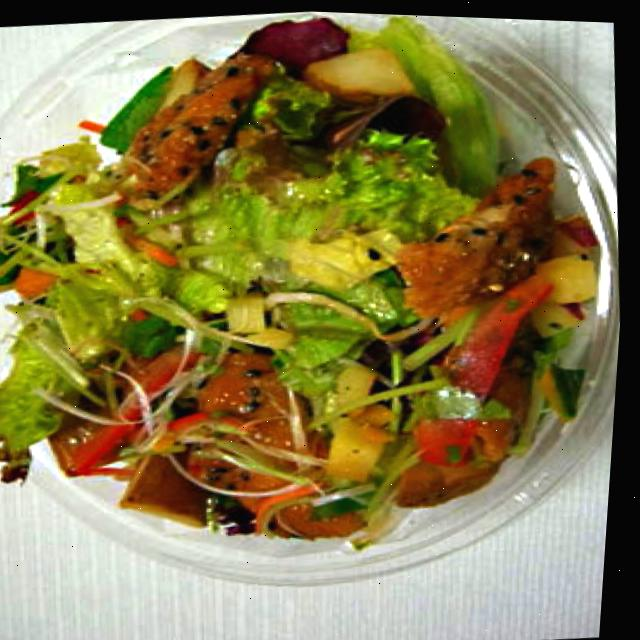蔬菜料理: (0, 0, 640, 620)
